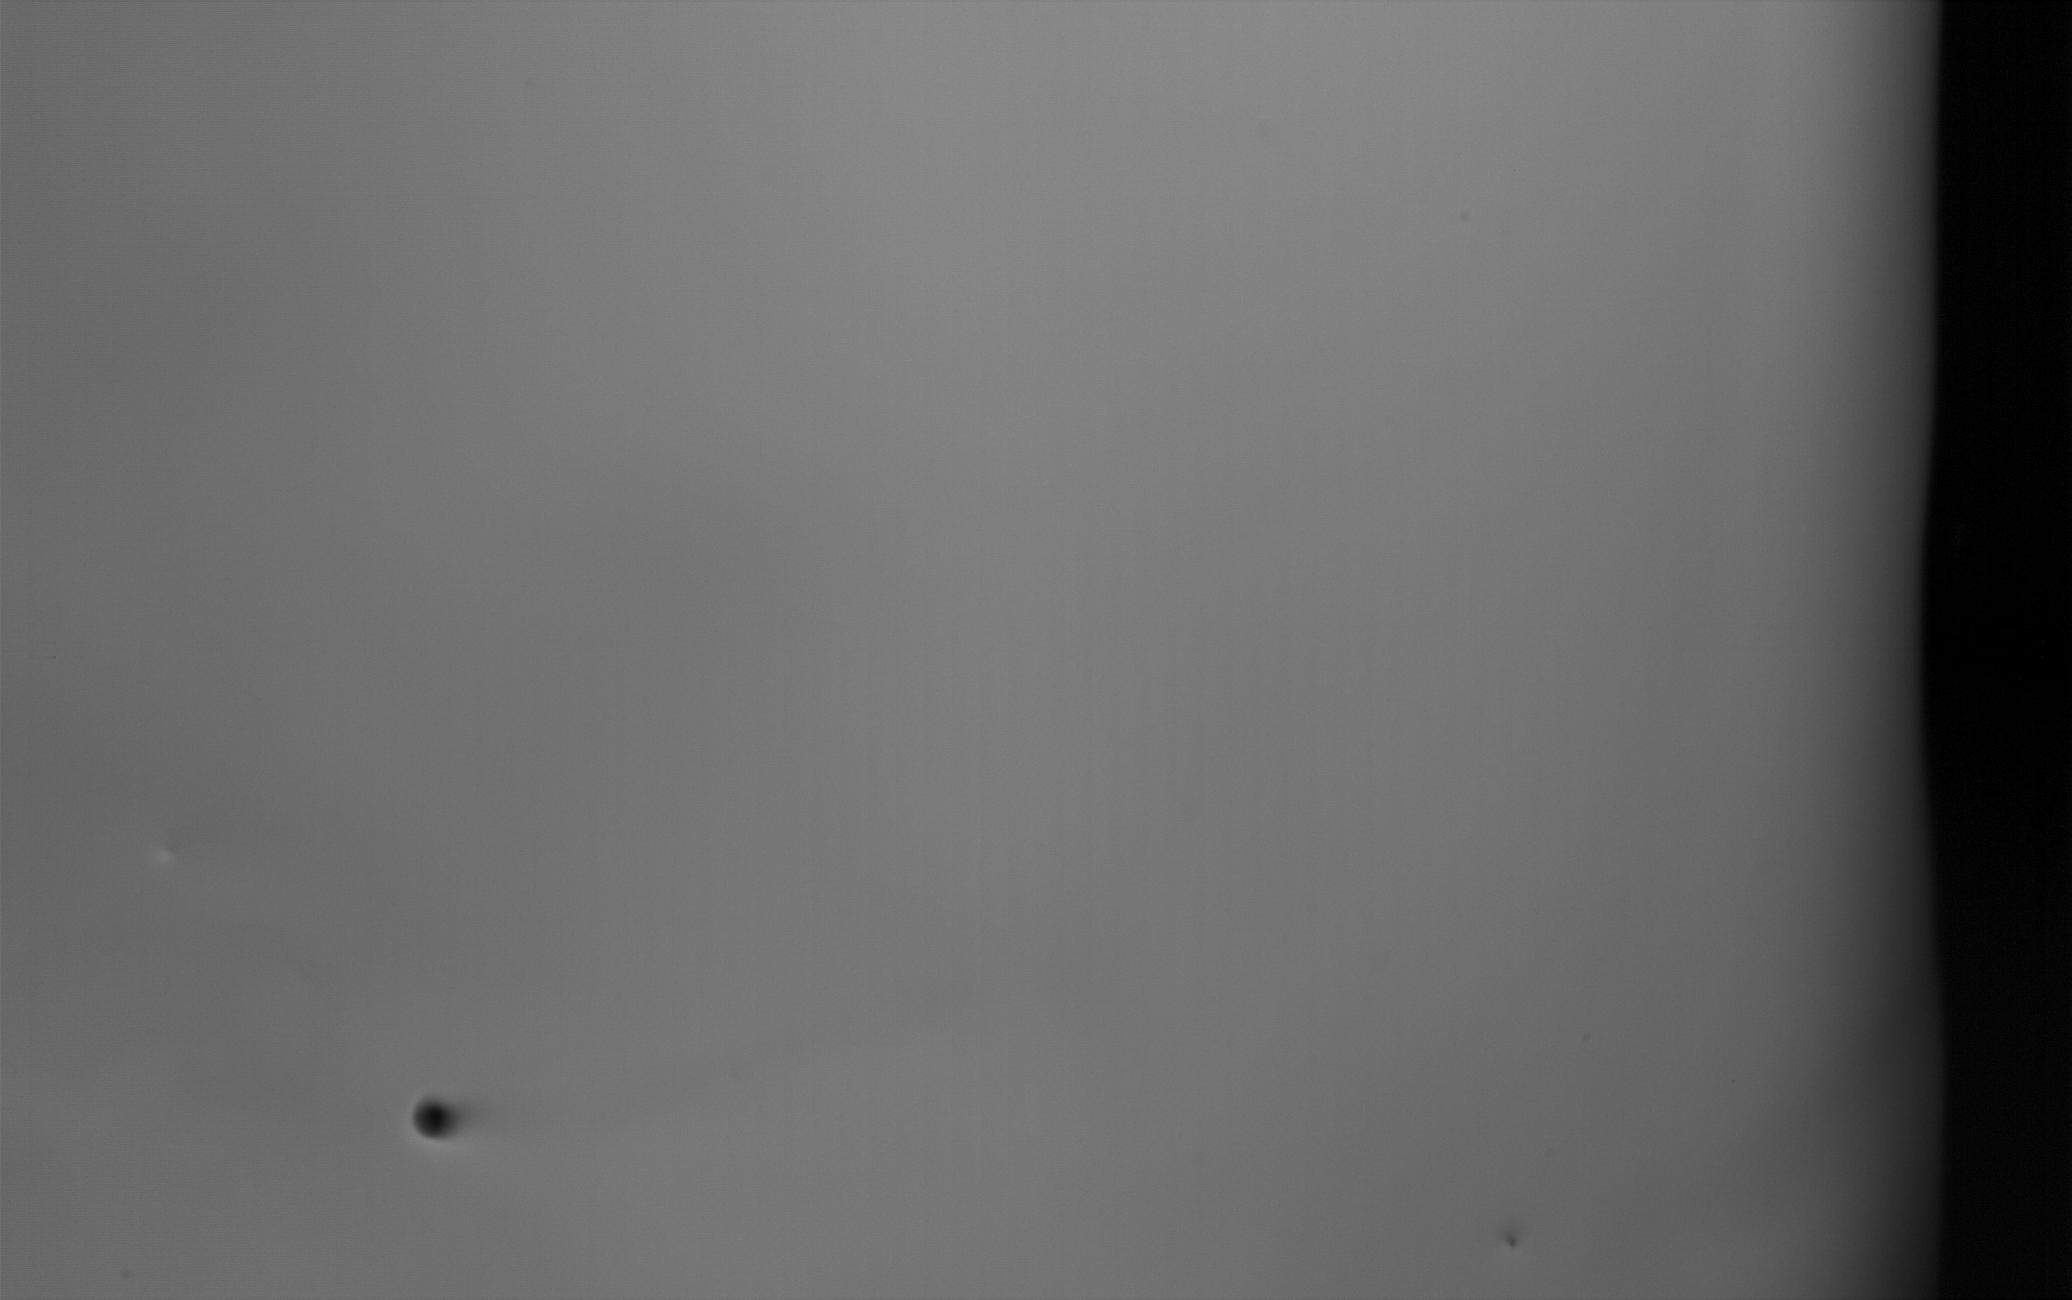ClassicalEvaporation: (412, 1093, 464, 1141), (1502, 1236, 1518, 1252)
